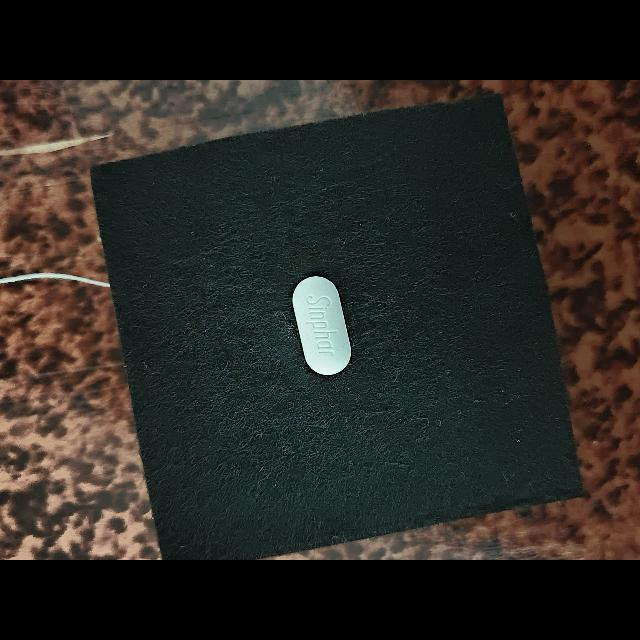Intact Pill: (292, 276, 351, 375)
